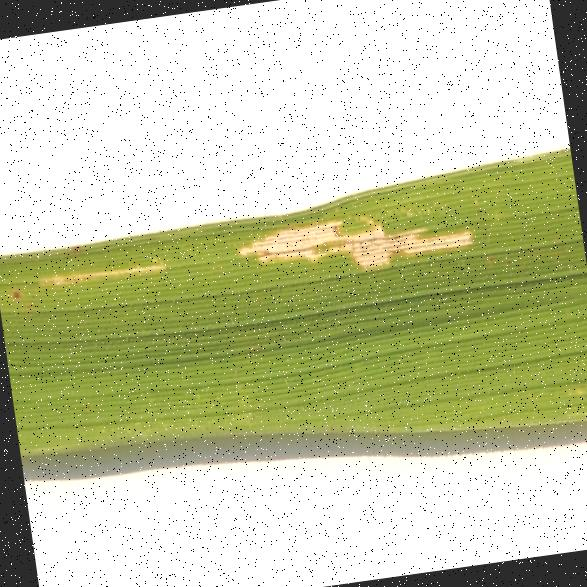Bacteria_Leaf_Blight: (21, 159, 504, 374)
